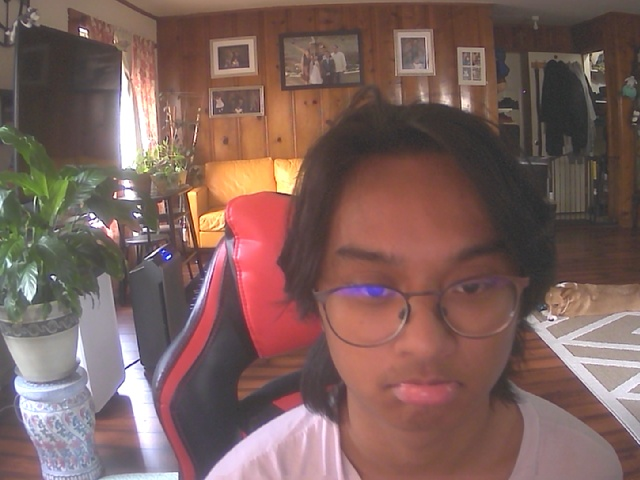sad: (310, 113, 543, 437)
